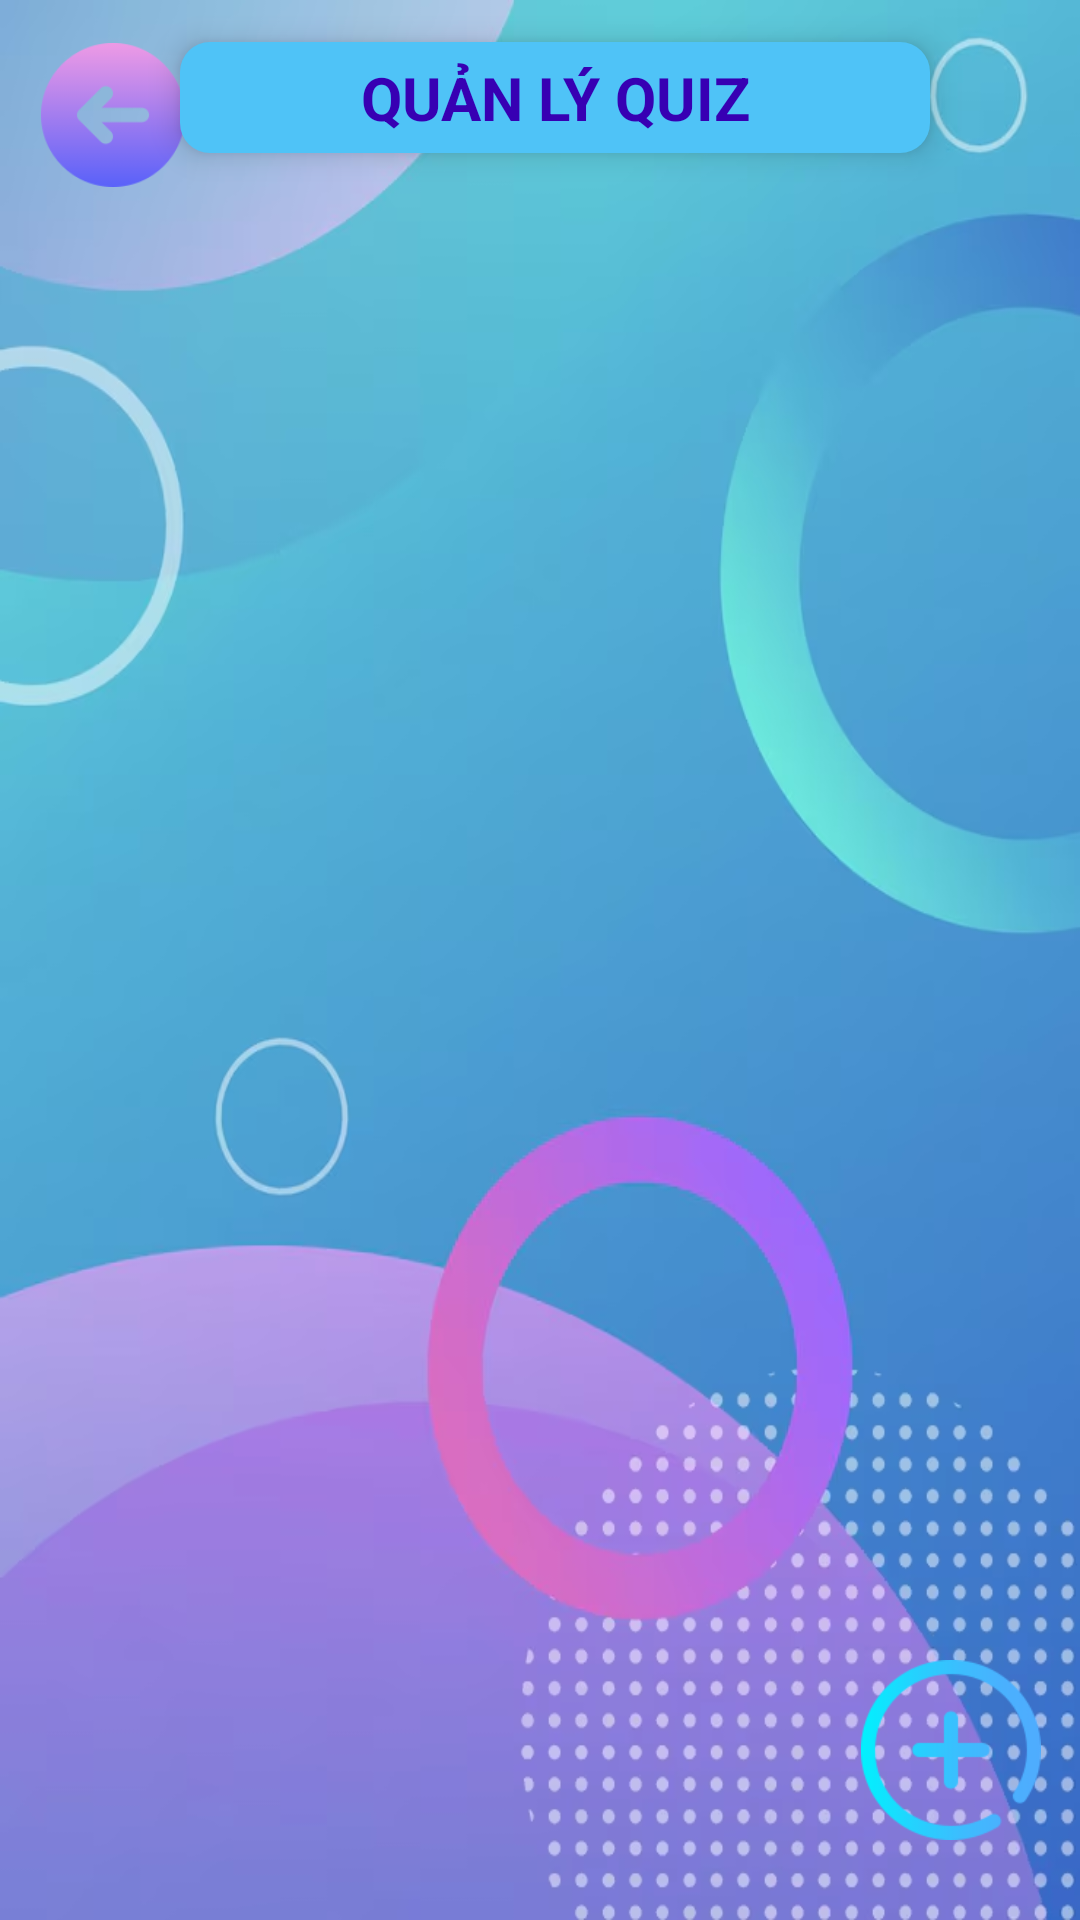

Screen size 1080x1920. Icon name, then its center in pixels as (x=x, y=y):
Thêm quiz: (x=951, y=1750)
Trở về: (x=113, y=115)
